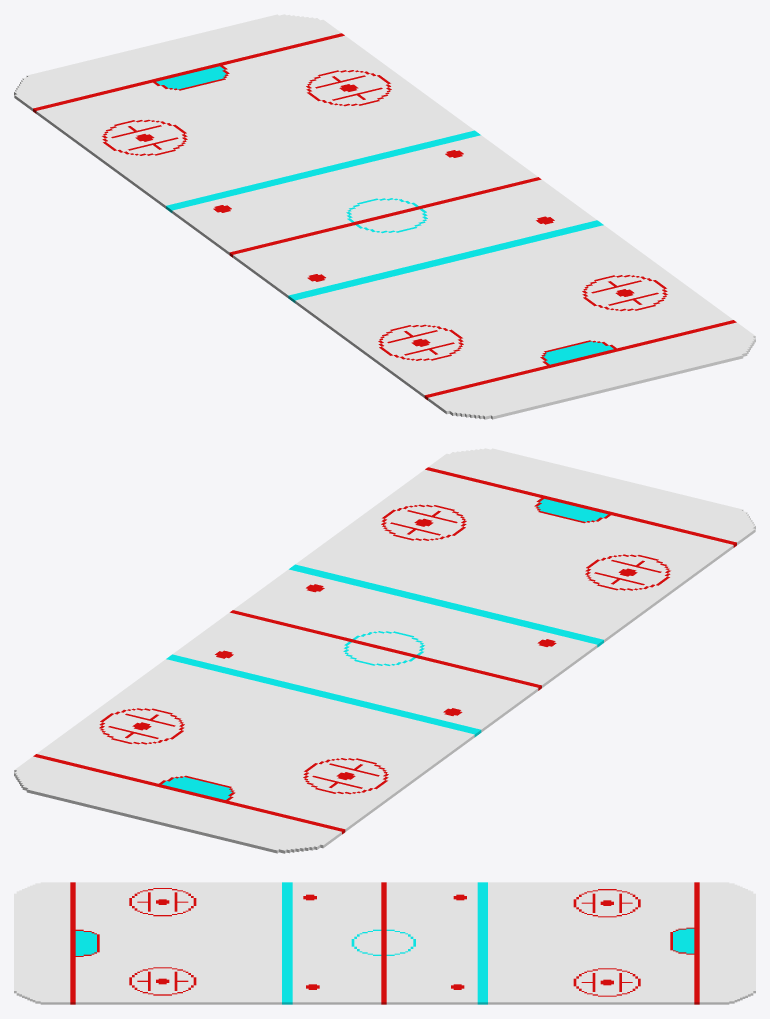
Rendered from HockeyRink.FBX.
3 views of the same model, one above another, from view 1: azimuth 30°, elevation 25°; view 2: azimuth 150°, elevation 25°; view 3: azimuth 270°, elevation 25° (orthographic). The views are drawn at different scales.
Parts seen in each view (by area): view 1: default; view 2: default; view 3: default.
Part boxes in pixels (x1,y1,x2,y2): default: [14, 14, 755, 419]; default: [14, 448, 755, 853]; default: [14, 882, 755, 1004].
Bounding box in the file's own units: 106 × 1 × 277.
